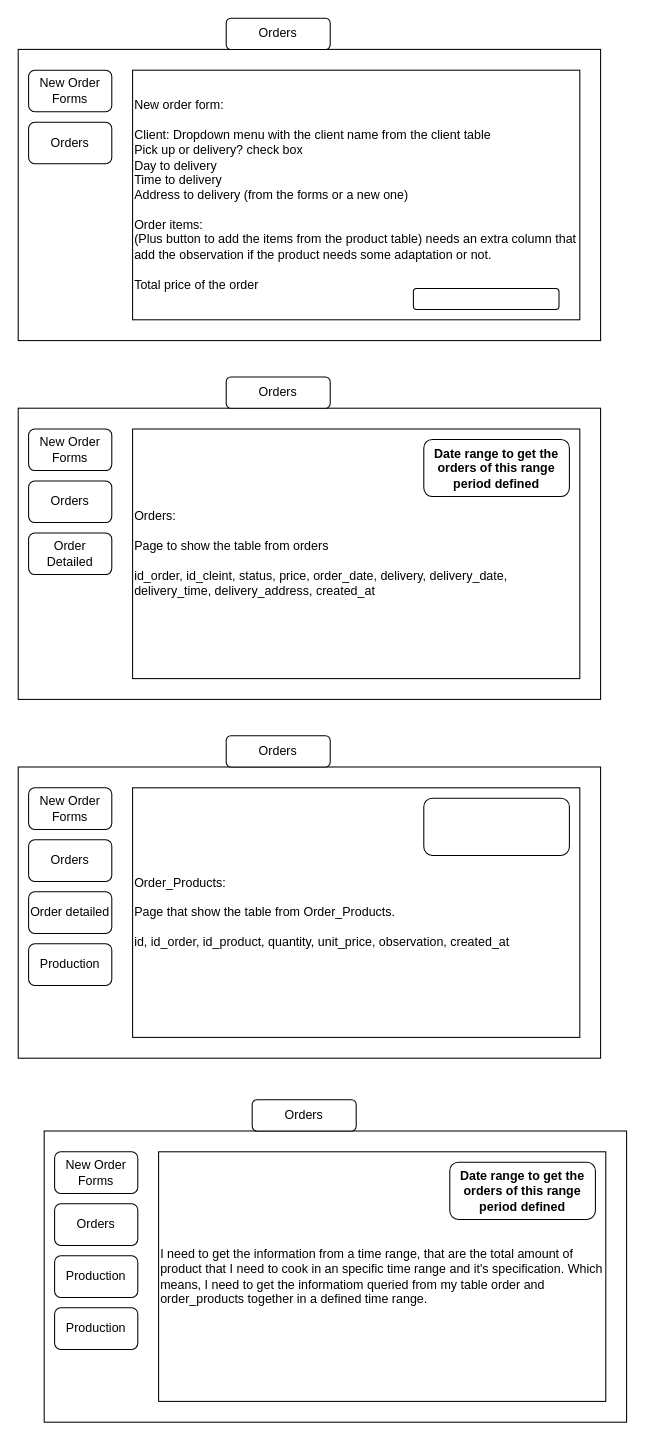
Image size: 645x1440. Some labels were removed from this diagram. The shapes that lost their labels are listed below. From the top down, each one's box as (x1, y1, x2, y2) in pixels, then its label:
(412, 288, 559, 309): New Order
(423, 797, 569, 855): Drop down menu to get the id_order
